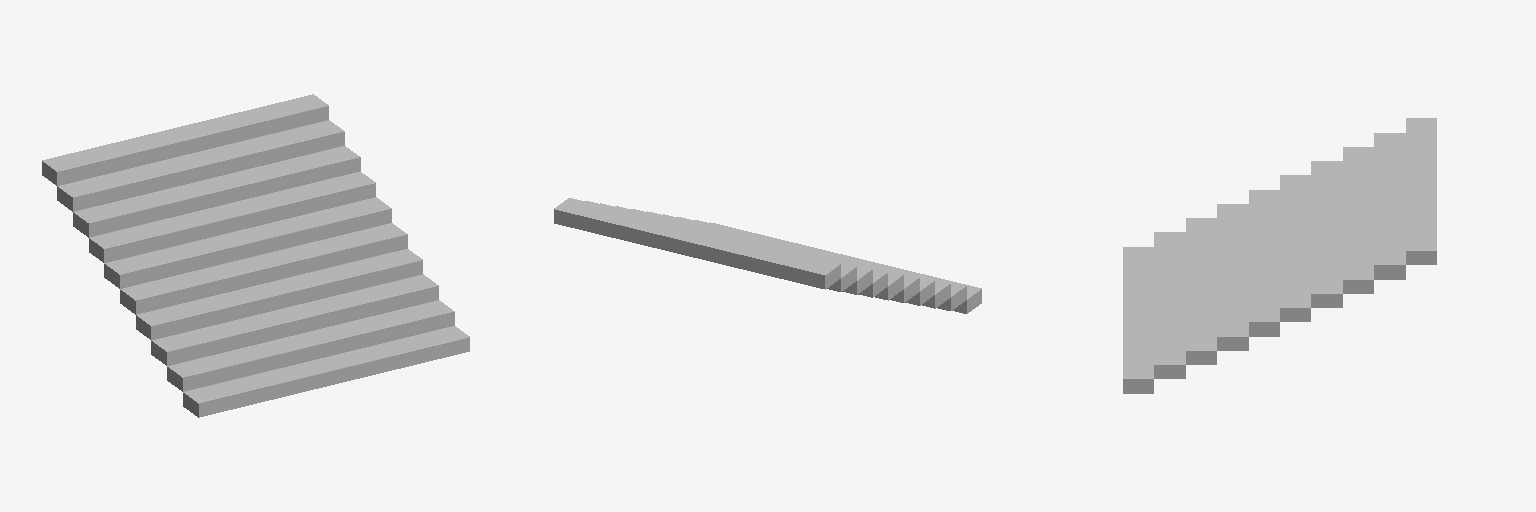
File: Stair_Base.obj
The picture shows the model from 3 angles: view 1: azimuth 30°, elevation 25°; view 2: azimuth 150°, elevation 25°; view 3: azimuth 270°, elevation 25°; orthographic projection.
Visible parts, largest first — view 1: Cube; view 2: Cube; view 3: Cube.
Part boxes in pixels (x1,y1,x2,y2): Cube: (42, 94, 469, 417); Cube: (554, 198, 981, 313); Cube: (1123, 118, 1436, 393).
Bounding box in the file's own units: 20 × 10 × 20.